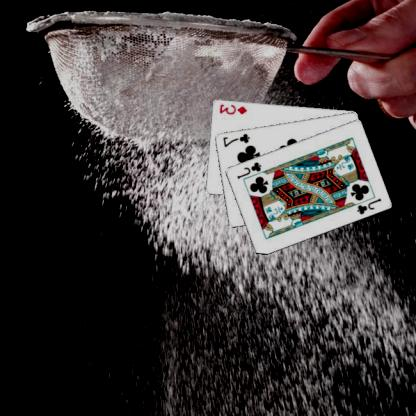3D: (218, 101, 250, 116)
7C: (221, 130, 253, 148)
JC: (235, 158, 264, 180), (356, 194, 384, 216)
